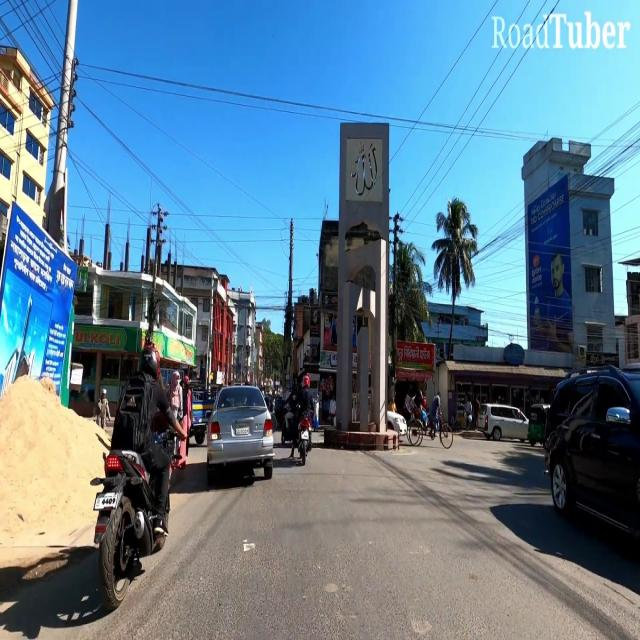black: (543, 362, 640, 546)
white: (206, 385, 275, 479), (476, 402, 528, 441)
